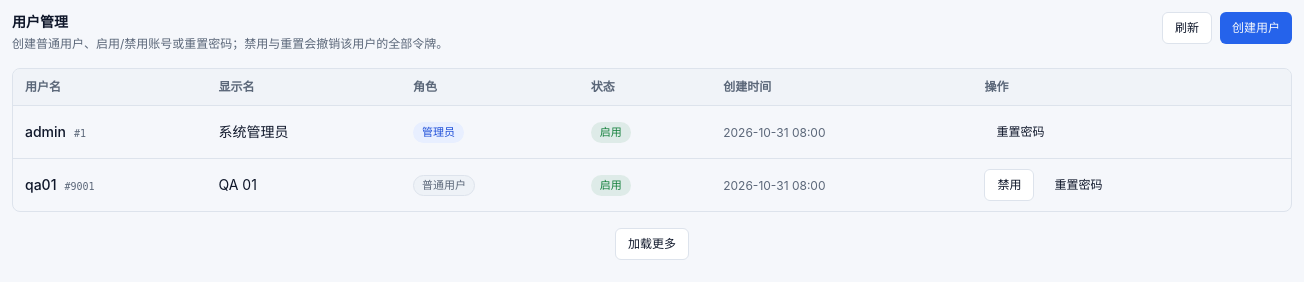
Test: UsersPanel › loads the next cursor page and appends it
This screenshot has width=1304, height=282.
Check: the text "qa01" is shown, box [25,176,56,193]
Click the button "加载更多". click: click(652, 244)
box: [615,228,689,260]
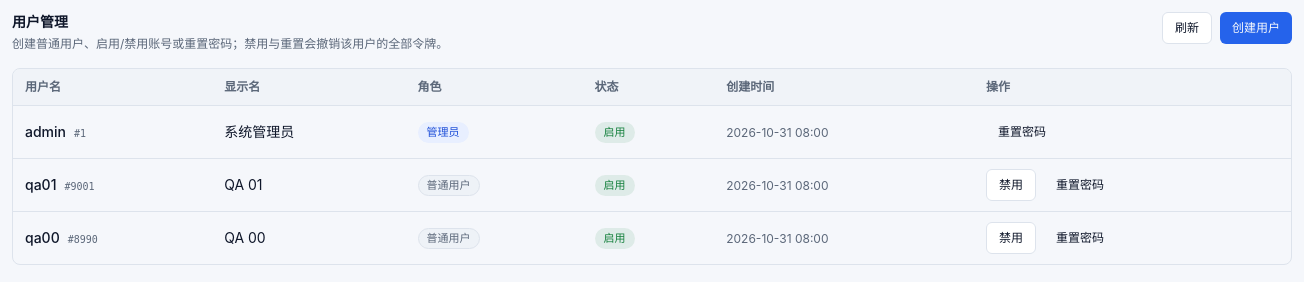
Check: the text "qa00" is shown, box [25,229,60,246]
Check: the button "加载更多" is gone
